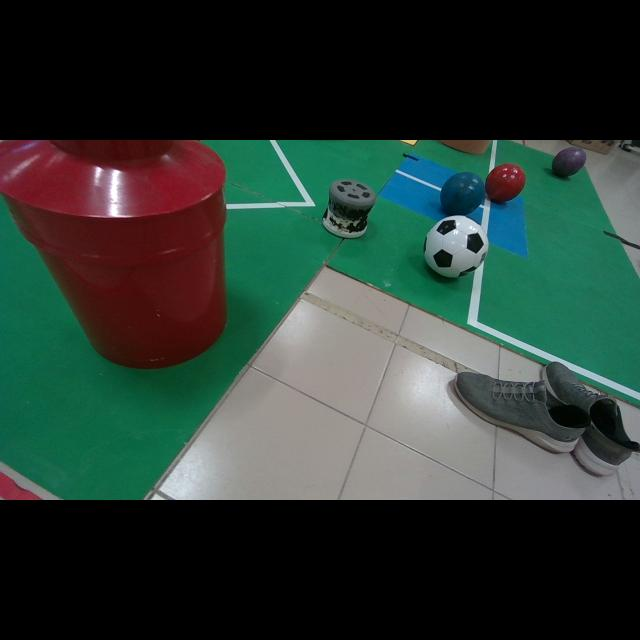B: (440, 172, 485, 215)
P: (551, 149, 586, 177)
R: (485, 164, 525, 204)
